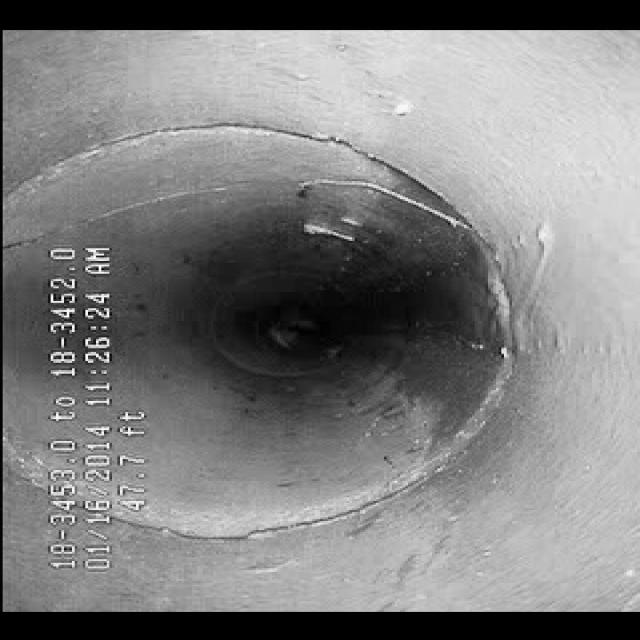Crack: (69, 156, 419, 232)
